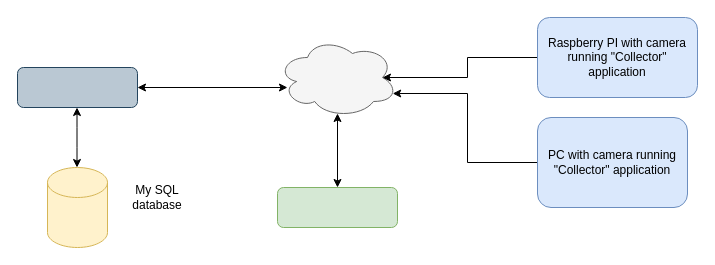
This 715x265 diagram has some shape labels left out. Here are the shapes that lost their labels. From the top down, the box of each, then its label:
(16, 66, 138, 108): Server
(276, 186, 398, 228): Web Browser
